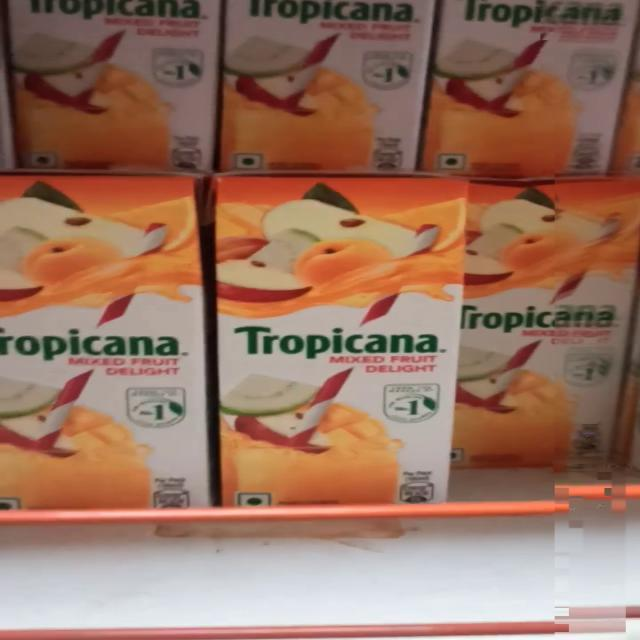Tropicana: (202, 176, 442, 522), (0, 175, 208, 509)
